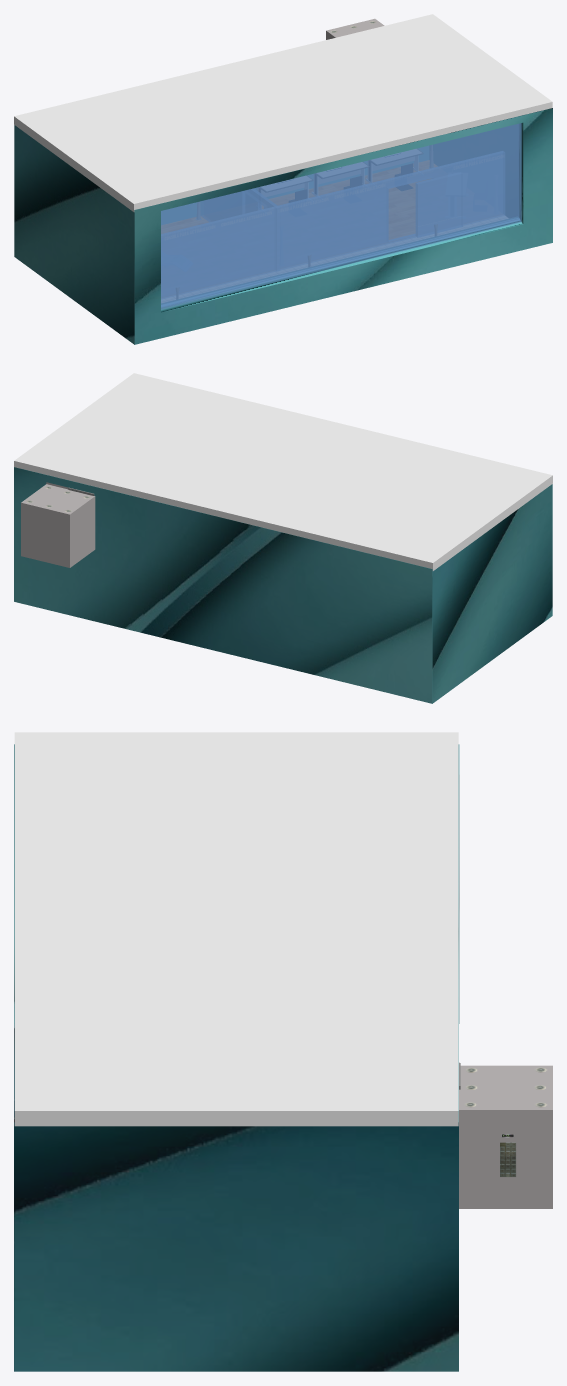
File: habitacion v2.FBX
The picture shows the model from 3 angles, top to bottom: view 1: azimuth 30°, elevation 25°; view 2: azimuth 150°, elevation 25°; view 3: azimuth 270°, elevation 25°; orthographic projection. The views are drawn at different scales.
Visible parts, largest first — view 1: Techo, Pared, Ventanal, Suelo, Layer0_001, Layer0_004, Ascensor, Layer0_006; view 2: Pared, Techo, Ascensor; view 3: Techo, Pared, Ascensor.
Part boxes in pixels (<box>): Techo: <box>14,14,552,211</box>; Pared: <box>14,108,552,344</box>; Ventanal: <box>161,123,521,309</box>; Suelo: <box>161,161,507,302</box>; Layer0_001: <box>366,149,422,182</box>; Layer0_004: <box>312,162,368,195</box>; Ascensor: <box>326,18,384,39</box>; Layer0_006: <box>258,176,312,196</box>; Pared: <box>14,467,552,703</box>; Techo: <box>14,373,552,570</box>; Ascensor: <box>21,482,95,567</box>; Techo: <box>14,732,458,1126</box>; Pared: <box>14,744,459,1371</box>; Ascensor: <box>459,1065,552,1208</box>.
Size of the model in its own units: 1625 by 522 by 978.
Materials: 23 (10 with a texture image).
